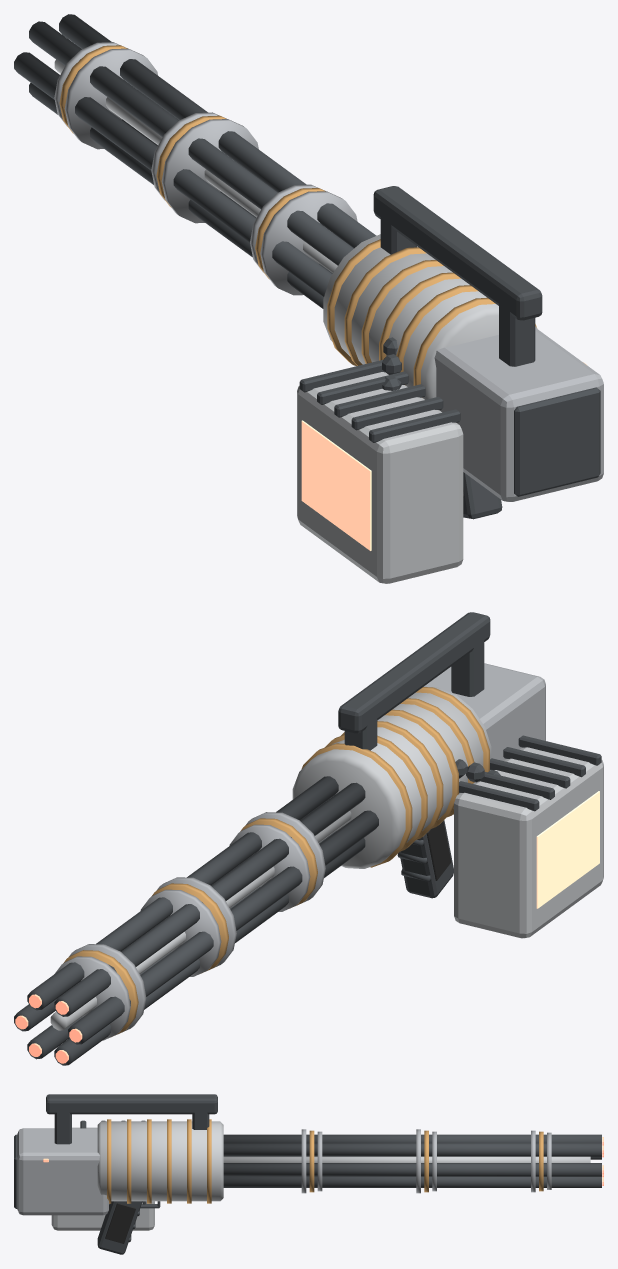
Rendered from laser_minigun.glb.
3 views of the same model, one above another, from view 1: azimuth 30°, elevation 25°; view 2: azimuth 150°, elevation 25°; view 3: azimuth 270°, elevation 25° (orthographic). The views are drawn at different scales.
Visible parts, largest first — view 1: Laser_minigun, MinigunBarrels; view 2: Laser_minigun, MinigunBarrels; view 3: Laser_minigun, MinigunBarrels.
Boxes of the visible parts, x1=… form: Laser_minigun: x1=297, y1=186, x2=603, y2=583; MinigunBarrels: x1=14, y1=14, x2=376, y2=308; Laser_minigun: x1=292, y1=612, x2=603, y2=938; MinigunBarrels: x1=14, y1=776, x2=378, y2=1065; Laser_minigun: x1=14, y1=1094, x2=223, y2=1254; MinigunBarrels: x1=223, y1=1129, x2=603, y2=1193.
Size of the model in its own units: 0.2449 by 0.2979 by 1.03.
